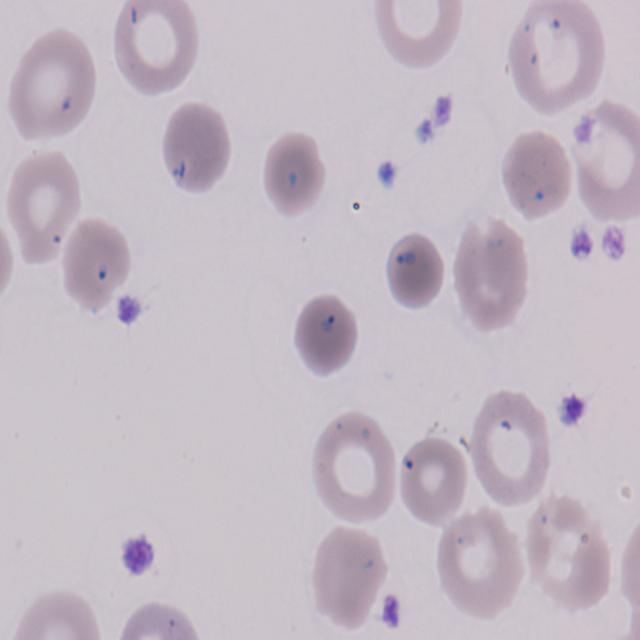RBC: (504, 0, 609, 125), (4, 22, 101, 150), (518, 493, 612, 618), (433, 506, 526, 626), (463, 389, 552, 511), (310, 412, 400, 530), (108, 0, 206, 104), (0, 149, 85, 268), (446, 216, 532, 332), (308, 522, 391, 632), (568, 99, 640, 224), (500, 127, 580, 225), (158, 100, 234, 200), (61, 212, 132, 316), (400, 433, 472, 531), (366, 0, 463, 72), (3, 589, 114, 640), (615, 515, 640, 635), (0, 204, 16, 318)
Spherocyte: (291, 290, 362, 380), (258, 128, 326, 218), (382, 225, 442, 318)
